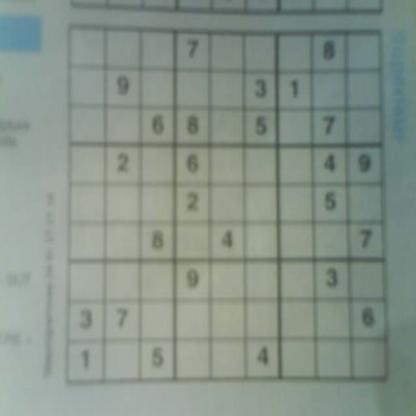sudoku: (61, 18, 392, 394)
